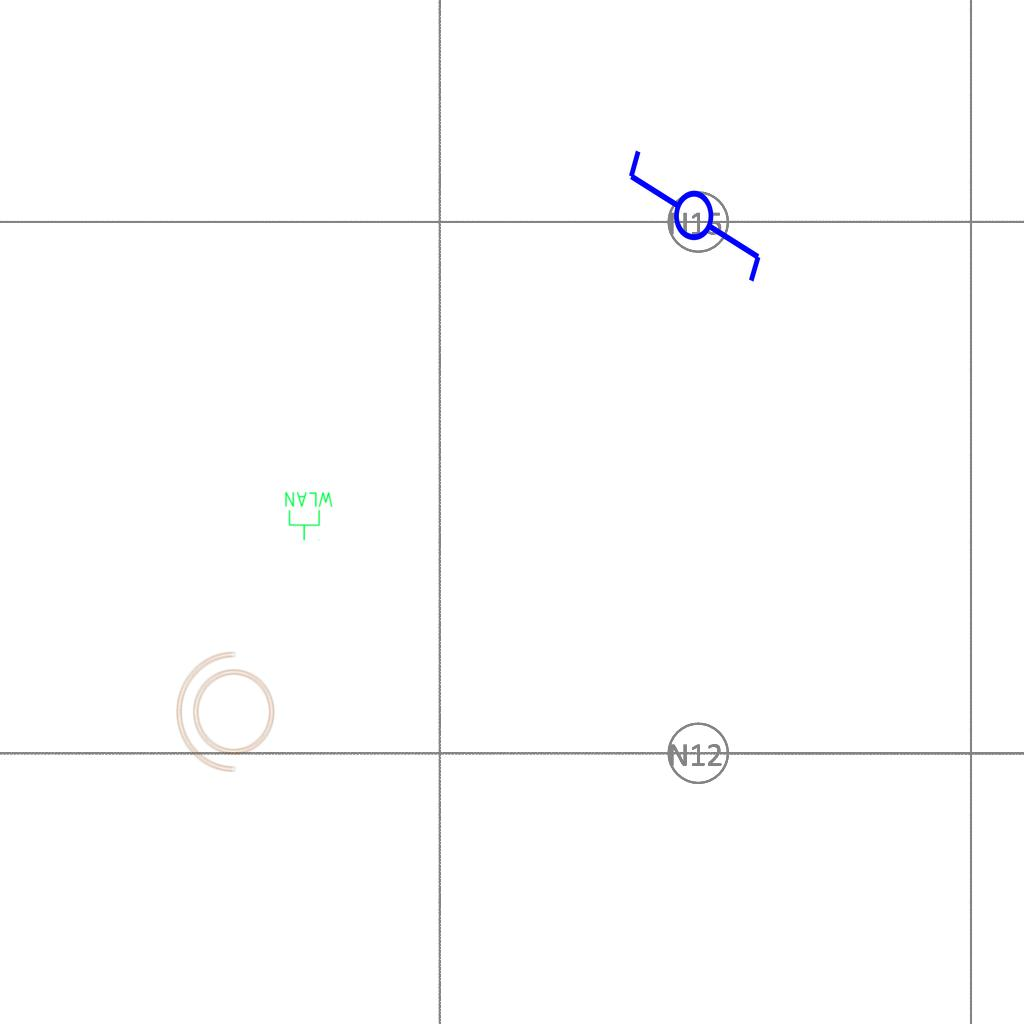Scheinwerfer_fuer_Alarmbeleuchtung: (173, 649, 285, 781)
WLAN: (283, 490, 335, 542)
Wechselschalter: (624, 129, 768, 286)
